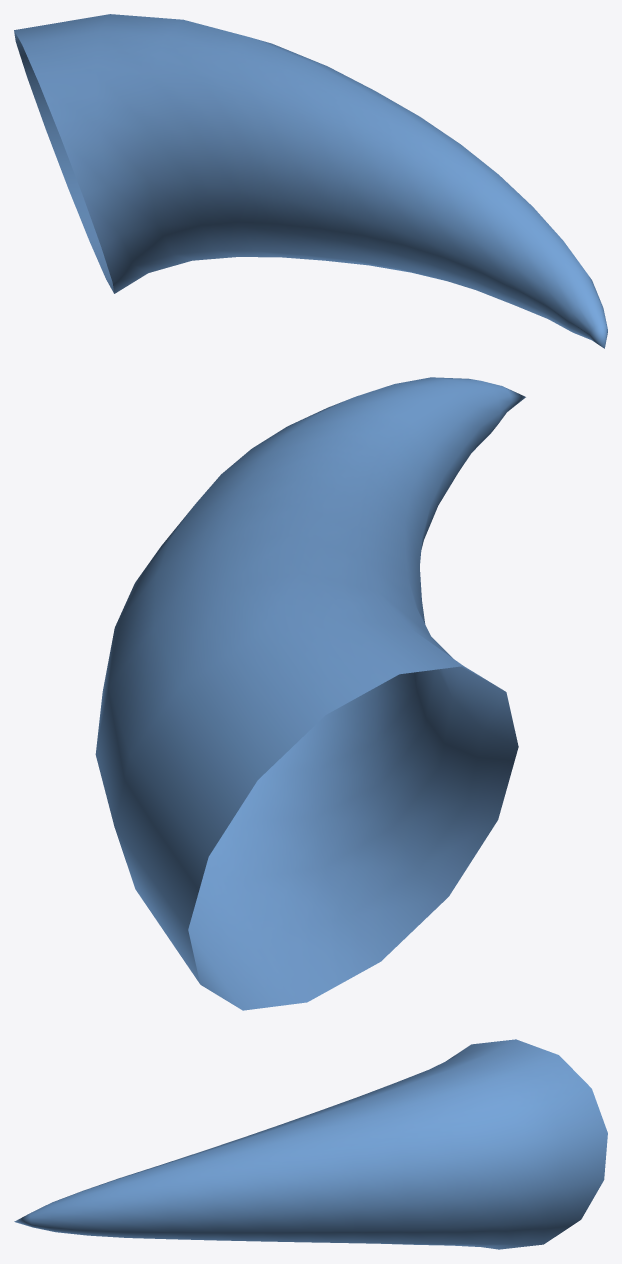
File: Sung Kim_Moc.fbx
3 views of the same model, one above another, from view 1: azimuth 30°, elevation 25°; view 2: azimuth 150°, elevation 25°; view 3: azimuth 270°, elevation 25° (orthographic). The views are drawn at different scales.
Visible parts, largest first — view 1: HornK_M; view 2: HornK_M; view 3: HornK_M.
Boxes of the visible parts, box(x1,y1,x2,y2) form: HornK_M: box(14, 14, 607, 348); HornK_M: box(95, 377, 525, 1010); HornK_M: box(14, 1039, 607, 1249).
Bounding box in the file's own units: 48.62 × 38.44 × 107.
Materials: 1 (1 with a texture image).
